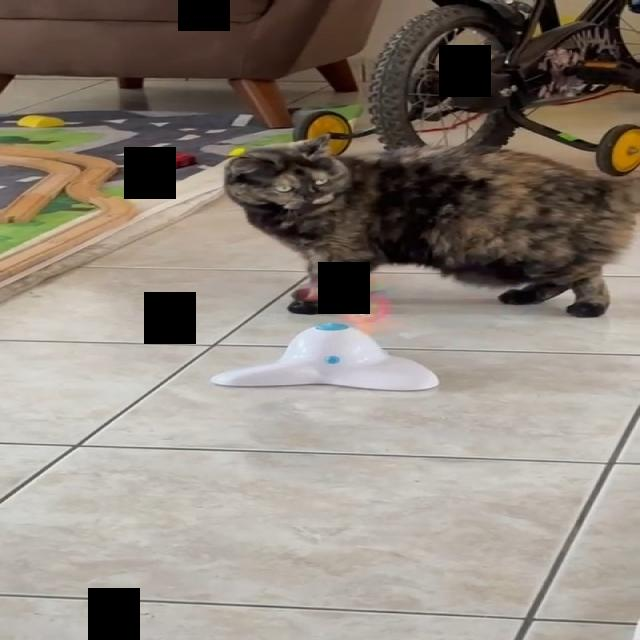authorized: (221, 108, 639, 318)
